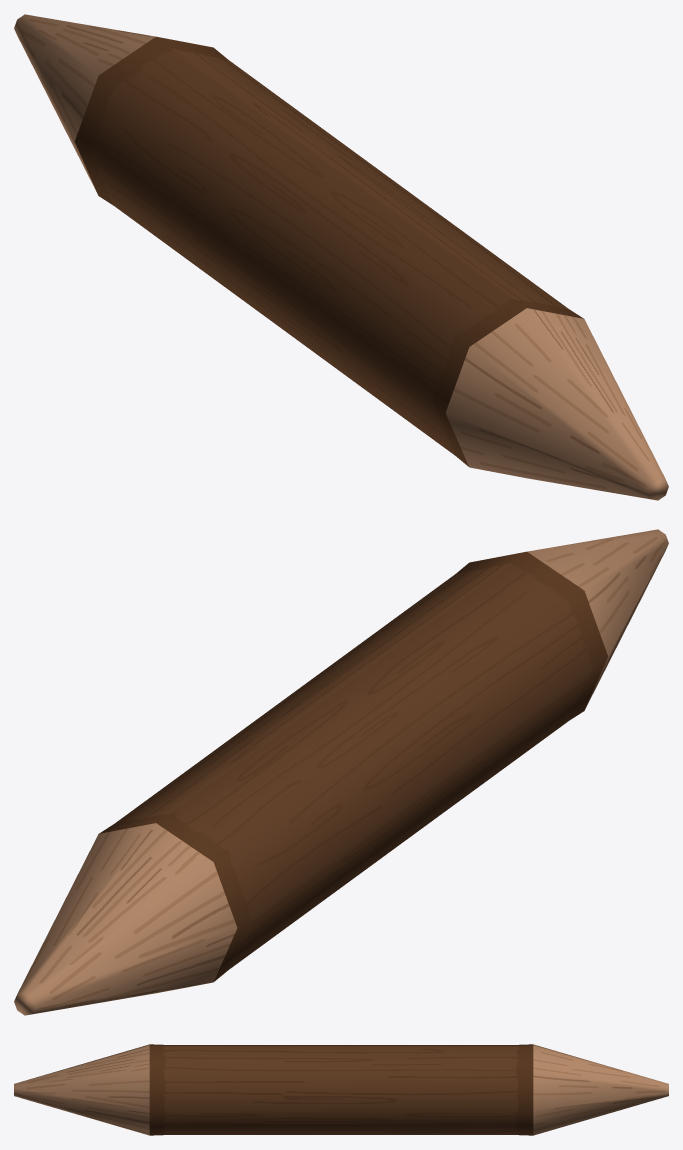
Rendered from Log.fbx.
3 views of the same model, one above another, from view 1: azimuth 30°, elevation 25°; view 2: azimuth 150°, elevation 25°; view 3: azimuth 270°, elevation 25° (orthographic). The views are drawn at different scales.
Visible parts, largest first — view 1: Cylinder.001; view 2: Cylinder.001; view 3: Cylinder.001.
Boxes of the visible parts, x1,y1,x2,y2 form: Cylinder.001: (14, 14, 668, 500); Cylinder.001: (14, 529, 668, 1015); Cylinder.001: (14, 1044, 668, 1135).
Size of the model in its own units: 46.53 by 46.53 by 314.
Materials: 1 (1 with a texture image).
